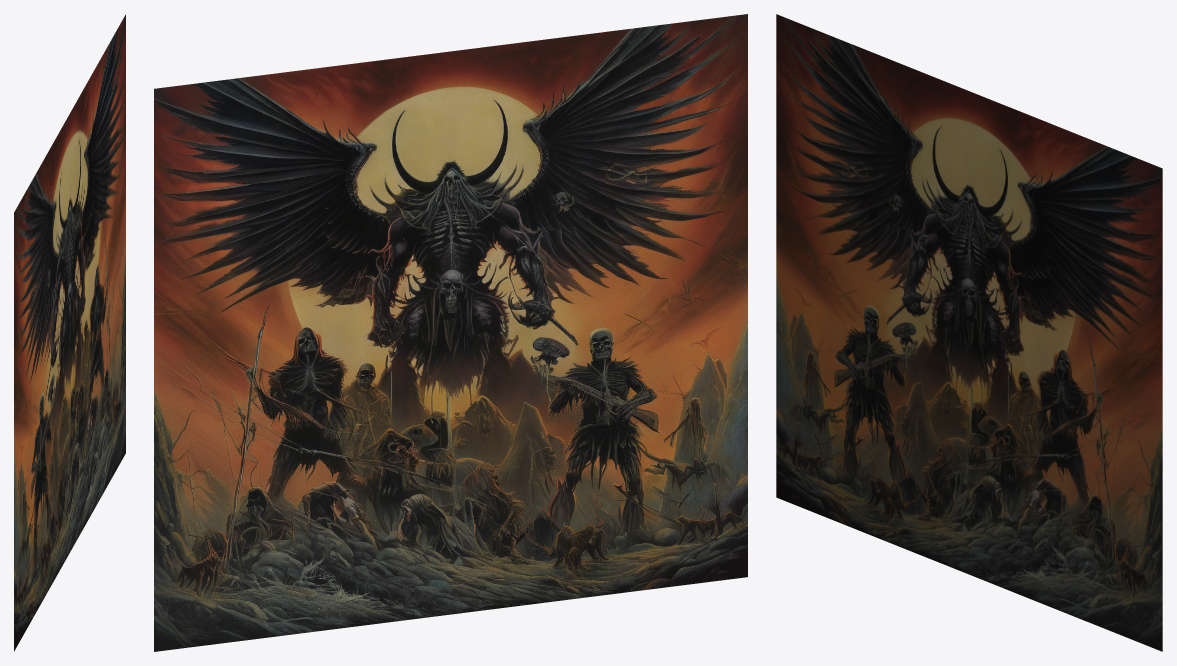
The model's file is image03.glb.
The picture shows the model from 3 angles, left to right: view 1: azimuth 30°, elevation 25°; view 2: azimuth 150°, elevation 25°; view 3: azimuth 270°, elevation 25°; orthographic projection. The views are drawn at different scales.
Visible parts, largest first — view 1: image03; view 2: image03; view 3: image03.
Part boxes in pixels (<box>): image03: <box>14,14,125,651</box>; image03: <box>154,14,747,651</box>; image03: <box>776,14,1162,651</box>.
Size of the model in its own units: 1.54 by 2.25 by 1.63.
1 material, 1 textured.
